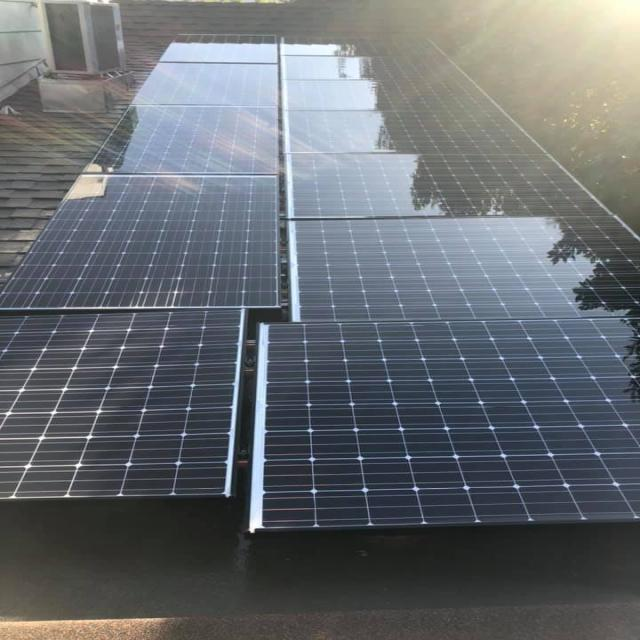clean-solar-panel: (2, 39, 637, 530)
